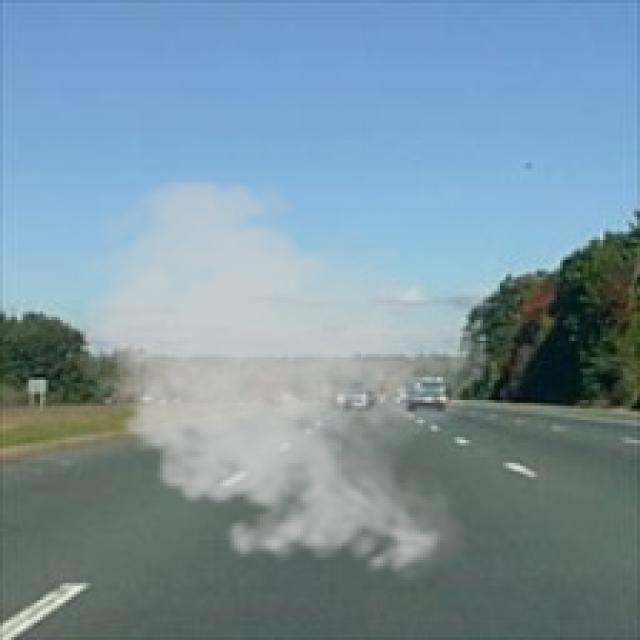Smoke: (66, 168, 492, 586)
